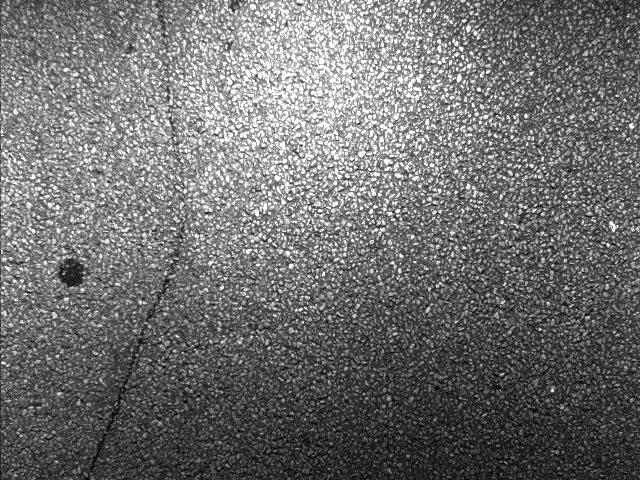crack: (89, 3, 197, 480)
